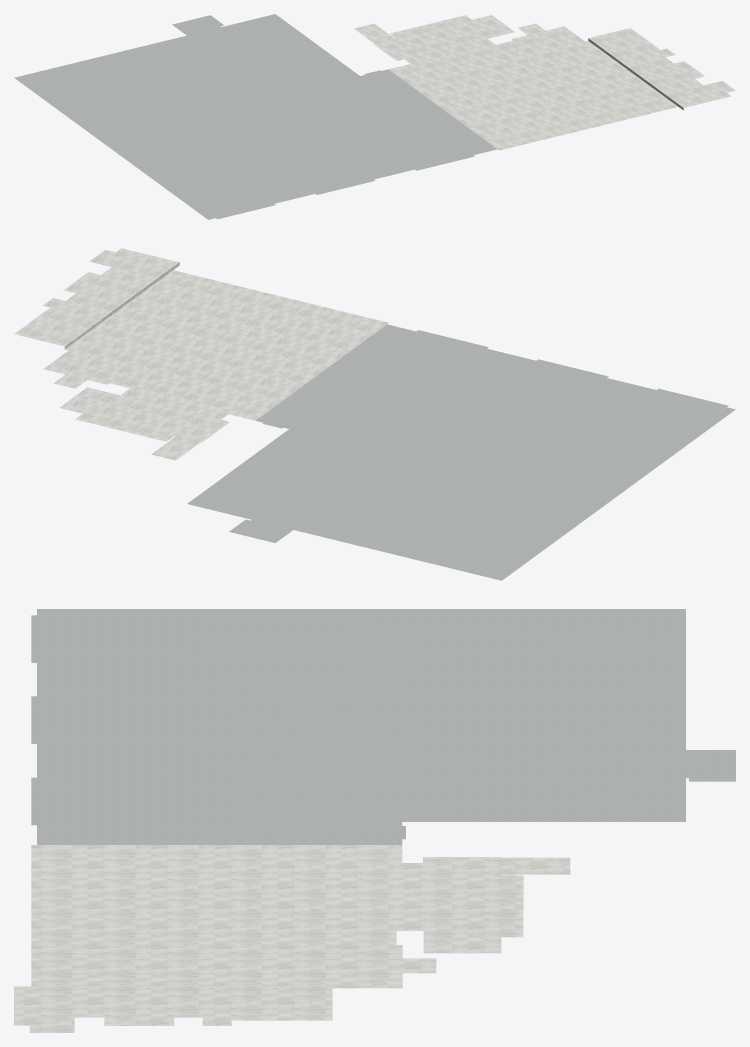
The model's file is floors.glb.
3 renders of one model, top to bottom at view 1: azimuth 30°, elevation 25°; view 2: azimuth 150°, elevation 25°; view 3: azimuth 270°, elevation 25°, orthographic. The views are drawn at different scales.
Size of the model in its own units: 39.02 by 0.1905 by 27.8.
3 materials, 2 textured.
